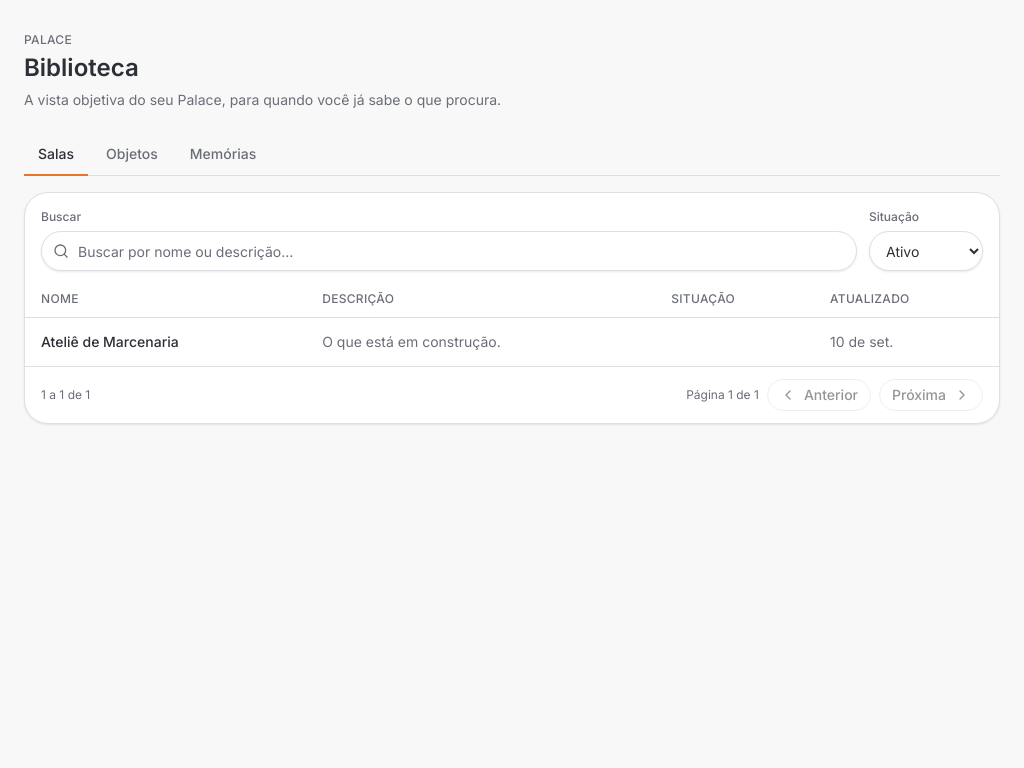
Test: does not pass the previous rows off as the result of a query that failed
Expected: the link "Ateliê de Marcenaria" is shown, [41, 333, 179, 350]
Type "z" into the search field labelled "Buscar" at (449, 251), box [41, 231, 857, 271]
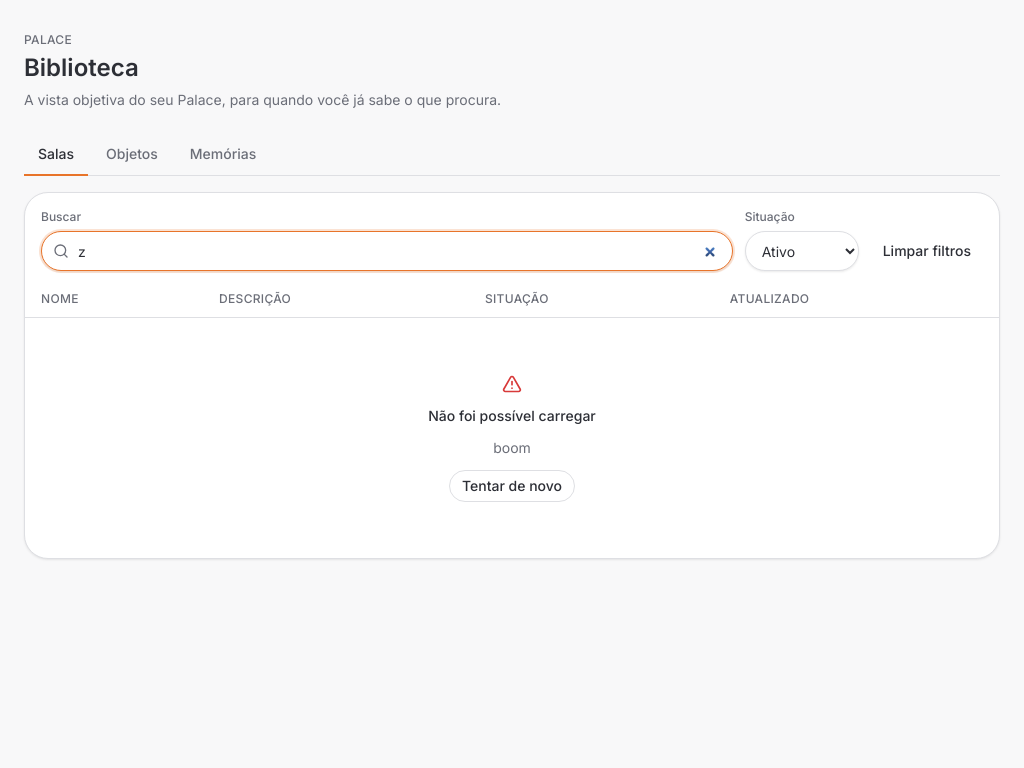
Expected: the text "Não foi possível carregar" is shown, [428, 406, 596, 426]
Expected: the link "Ateliê de Marcenaria" is gone
Expected: the button "Tentar de novo" is shown, [449, 470, 575, 502]
